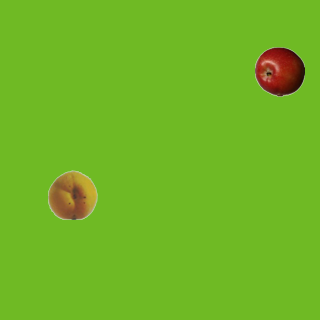Apple Braeburn: (254, 46, 304, 96)
Peach 2: (47, 169, 97, 219)
